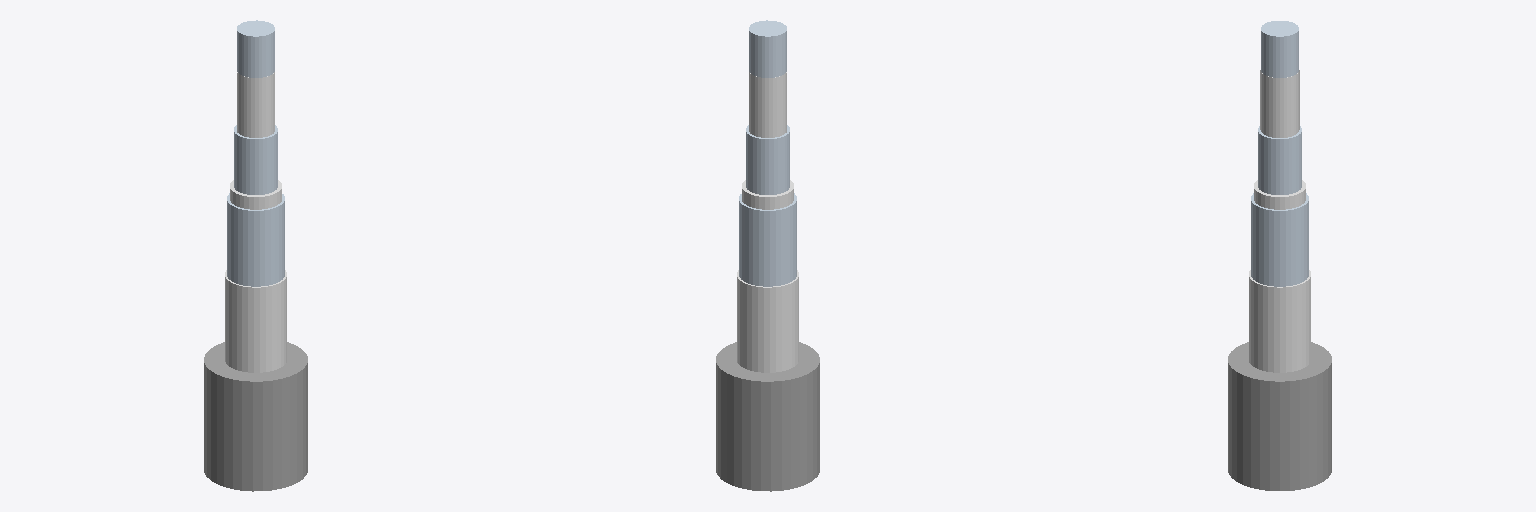
URDF robot description (mycobot_320_pi):
<?xml version="1.0"?>
<robot name="mycobot_320_pi">
  
  <!-- 
    myCobot 320 Pi - Baby Elephant Cooperative Robotic Arm
    Frame Configuration based on "4 Joint connecting rod parameter specifications"
    
    Specifications:
    - Working Radius: 350mm
    - Payload: 1kg
    - Positioning Precision: ±0.5mm
    - Weight: 3.3kg
    - DOF: 6
    
    DH Parameters from diagram:
    - d1 = 173.9mm (F0 to F1 along z0)
    - a2 = 135mm (F1 to F2 along x2)
    - a3 = 120mm (F2 to F3 along x3)
    - d4 = 88.78mm (F3 to F4 along z4)
    - d5 = 95mm (F4 to F5 along z5)
    - d6 = 65.50mm (F5 to F6 along z6)
    
    Frame Convention:
    - F0: Base frame (x0, y0, z0)
    - F1: After J1 rotation (z-axis)
    - F2: After J2 rotation (y-axis)
    - F3: After J3 rotation (y-axis)
    - F4: After J4 rotation (z-axis)
    - F5: After J5 rotation (y-axis)
    - F6: End-effector frame (z-axis)
  -->
  
  <!-- Base Link - F0 (d1 = 173.9mm height) -->
  <link name="base_link">
    <visual>
      <geometry>
        <cylinder length="0.1739" radius="0.075"/>
      </geometry>
      <origin xyz="0 0 0.08695" rpy="0 0 0"/>
      <material name="gray">
        <color rgba="0.7 0.7 0.7 1"/>
      </material>
    </visual>
    <collision>
      <geometry>
        <cylinder length="0.1739" radius="0.075"/>
      </geometry>
      <origin xyz="0 0 0.08695" rpy="0 0 0"/>
    </collision>
    <inertial>
      <mass value="1.0"/>
      <origin xyz="0 0 0.08695" rpy="0 0 0"/>
      <inertia ixx="0.012" ixy="0" ixz="0" iyy="0.012" iyz="0" izz="0.008"/>
    </inertial>
  </link>

  <!-- Link 1 - F1 (a2 = 135mm) -->
  <link name="link1">
    <visual>
      <geometry>
        <cylinder length="0.135" radius="0.045"/>
      </geometry>
      <origin xyz="0 0 0.0675" rpy="0 0 0"/>
      <material name="white">
        <color rgba="0.95 0.95 0.95 1"/>
      </material>
    </visual>
    <collision>
      <geometry>
        <cylinder length="0.135" radius="0.045"/>
      </geometry>
      <origin xyz="0 0 0.0675" rpy="0 0 0"/>
    </collision>
    <inertial>
      <mass value="0.7"/>
      <origin xyz="0 0 0.0675" rpy="0 0 0"/>
      <inertia ixx="0.009" ixy="0" ixz="0" iyy="0.009" iyz="0" izz="0.005"/>
    </inertial>
  </link>

  <!-- Joint 1: F0 to F1 (Revolute, z0-axis rotation) -->
  <joint name="joint1" type="revolute">
    <parent link="base_link"/>
    <child link="link1"/>
    <origin xyz="0 0 0.1739" rpy="0 0 0"/>
    <axis xyz="0 0 1"/>
    <limit lower="-2.879" upper="2.879" effort="100" velocity="3.14"/>
    <!-- J1: -165° to +165° = -2.879 to +2.879 radians -->
  </joint>

  <!-- Link 2 - F2 (a3 = 120mm) -->
  <link name="link2">
    <visual>
      <geometry>
        <cylinder length="0.120" radius="0.042"/>
      </geometry>
      <origin xyz="0 0 0.060" rpy="0 0 0"/>
      <material name="light_blue">
        <color rgba="0.85 0.90 0.95 1"/>
      </material>
    </visual>
    <collision>
      <geometry>
        <cylinder length="0.120" radius="0.042"/>
      </geometry>
      <origin xyz="0 0 0.060" rpy="0 0 0"/>
    </collision>
    <inertial>
      <mass value="0.6"/>
      <origin xyz="0 0 0.060" rpy="0 0 0"/>
      <inertia ixx="0.007" ixy="0" ixz="0" iyy="0.007" iyz="0" izz="0.004"/>
    </inertial>
  </link>

  <!-- Joint 2: F1 to F2 (Revolute, y1-axis rotation) -->
  <joint name="joint2" type="revolute">
    <parent link="link1"/>
    <child link="link2"/>
    <origin xyz="0 0 0.135" rpy="0 0 0"/>
    <axis xyz="0 1 0"/>
    <limit lower="-2.879" upper="2.879" effort="100" velocity="3.14"/>
    <!-- J2: -165° to +165° = -2.879 to +2.879 radians -->
  </joint>

  <!-- Link 3 - F3 (connects to F4 via d4) -->
  <link name="link3">
    <visual>
      <geometry>
        <cylinder length="0.020" radius="0.038"/>
      </geometry>
      <origin xyz="0 0 0.010" rpy="0 0 0"/>
      <material name="white">
        <color rgba="0.95 0.95 0.95 1"/>
      </material>
    </visual>
    <collision>
      <geometry>
        <cylinder length="0.020" radius="0.038"/>
      </geometry>
      <origin xyz="0 0 0.010" rpy="0 0 0"/>
    </collision>
    <inertial>
      <mass value="0.5"/>
      <origin xyz="0 0 0.010" rpy="0 0 0"/>
      <inertia ixx="0.006" ixy="0" ixz="0" iyy="0.006" iyz="0" izz="0.003"/>
    </inertial>
  </link>

  <!-- Joint 3: F2 to F3 (Revolute, y2-axis rotation) -->
  <joint name="joint3" type="revolute">
    <parent link="link2"/>
    <child link="link3"/>
    <origin xyz="0 0 0.120" rpy="0 0 0"/>
    <axis xyz="0 1 0"/>
    <limit lower="-2.879" upper="2.879" effort="100" velocity="3.14"/>
    <!-- J3: -165° to +165° = -2.879 to +2.879 radians -->
  </joint>

  <!-- Link 4 - F4 (d4 = 88.78mm) -->
  <link name="link4">
    <visual>
      <geometry>
        <cylinder length="0.08878" radius="0.032"/>
      </geometry>
      <origin xyz="0 0 0.04439" rpy="0 0 0"/>
      <material name="light_blue">
        <color rgba="0.85 0.90 0.95 1"/>
      </material>
    </visual>
    <collision>
      <geometry>
        <cylinder length="0.08878" radius="0.032"/>
      </geometry>
      <origin xyz="0 0 0.04439" rpy="0 0 0"/>
    </collision>
    <inertial>
      <mass value="0.3"/>
      <origin xyz="0 0 0.04439" rpy="0 0 0"/>
      <inertia ixx="0.003" ixy="0" ixz="0" iyy="0.003" iyz="0" izz="0.002"/>
    </inertial>
  </link>

  <!-- Joint 4: F3 to F4 (Revolute, z3-axis rotation) -->
  <joint name="joint4" type="revolute">
    <parent link="link3"/>
    <child link="link4"/>
    <origin xyz="0 0 0.020" rpy="0 0 0"/>
    <axis xyz="0 0 1"/>
    <limit lower="-2.879" upper="2.879" effort="50" velocity="3.14"/>
    <!-- J4: -165° to +165° = -2.879 to +2.879 radians -->
  </joint>

  <!-- Link 5 - F5 (d5 = 95mm) -->
  <link name="link5">
    <visual>
      <geometry>
        <cylinder length="0.095" radius="0.028"/>
      </geometry>
      <origin xyz="0 0 0.0475" rpy="0 0 0"/>
      <material name="white">
        <color rgba="0.95 0.95 0.95 1"/>
      </material>
    </visual>
    <collision>
      <geometry>
        <cylinder length="0.095" radius="0.028"/>
      </geometry>
      <origin xyz="0 0 0.0475" rpy="0 0 0"/>
    </collision>
    <inertial>
      <mass value="0.2"/>
      <origin xyz="0 0 0.0475" rpy="0 0 0"/>
      <inertia ixx="0.002" ixy="0" ixz="0" iyy="0.002" iyz="0" izz="0.001"/>
    </inertial>
  </link>

  <!-- Joint 5: F4 to F5 (Revolute, y4-axis rotation) -->
  <joint name="joint5" type="revolute">
    <parent link="link4"/>
    <child link="link5"/>
    <origin xyz="0 0 0.08878" rpy="0 0 0"/>
    <axis xyz="0 1 0"/>
    <limit lower="-2.879" upper="2.879" effort="50" velocity="3.14"/>
    <!-- J5: -165° to +165° = -2.879 to +2.879 radians -->
  </joint>

  <!-- Link 6 - F6 End Effector (d6 = 65.50mm) -->
  <link name="link6">
    <visual>
      <geometry>
        <cylinder length="0.0655" radius="0.0275"/>
      </geometry>
      <origin xyz="0 0 0.03275" rpy="0 0 0"/>
      <material name="light_blue">
        <color rgba="0.85 0.90 0.95 1"/>
      </material>
    </visual>
    <collision>
      <geometry>
        <cylinder length="0.0655" radius="0.0275"/>
      </geometry>
      <origin xyz="0 0 0.03275" rpy="0 0 0"/>
    </collision>
    <inertial>
      <mass value="0.15"/>
      <origin xyz="0 0 0.03275" rpy="0 0 0"/>
      <inertia ixx="0.001" ixy="0" ixz="0" iyy="0.001" iyz="0" izz="0.0008"/>
    </inertial>
  </link>

  <!-- Joint 6: F5 to F6 (Revolute, z5-axis rotation) -->
  <joint name="joint6" type="revolute">
    <parent link="link5"/>
    <child link="link6"/>
    <origin xyz="0 0 0.095" rpy="0 0 0"/>
    <axis xyz="0 0 1"/>
    <limit lower="-3.054" upper="3.054" effort="25" velocity="3.14"/>
    <!-- J6: -175° to +175° = -3.054 to +3.054 radians -->
  </joint>

</robot>

--- What the picture shows (computed from the rendered views, not written in the file) ---
Views: 3 orthographic renders of the robot side by side, from view 1: azimuth 30°, elevation 25°; view 2: azimuth 150°, elevation 25°; view 3: azimuth 270°, elevation 25°.
Model mycobot_320_pi with 7 links and 6 joints (6 revolute), rooted at base_link, posed all joints at 0.
Links seen in each view (by area): view 1: base_link, link1, link2, link4, link5, link6, link3; view 2: base_link, link1, link2, link4, link5, link6, link3; view 3: base_link, link1, link2, link4, link5, link6, link3.
Boxes of the visible links, x1=… form: base_link: x1=204, y1=342, x2=307, y2=491; link1: x1=225, y1=270, x2=286, y2=372; link2: x1=227, y1=193, x2=284, y2=286; link4: x1=234, y1=125, x2=277, y2=194; link5: x1=237, y1=72, x2=274, y2=137; link6: x1=237, y1=20, x2=274, y2=77; link3: x1=230, y1=180, x2=281, y2=209; base_link: x1=716, y1=342, x2=819, y2=491; link1: x1=737, y1=270, x2=798, y2=372; link2: x1=739, y1=193, x2=796, y2=286; link4: x1=746, y1=125, x2=789, y2=194; link5: x1=749, y1=72, x2=786, y2=137; link6: x1=749, y1=20, x2=786, y2=77; link3: x1=742, y1=180, x2=793, y2=209; base_link: x1=1228, y1=342, x2=1331, y2=490; link1: x1=1249, y1=270, x2=1310, y2=372; link2: x1=1251, y1=193, x2=1308, y2=286; link4: x1=1258, y1=126, x2=1301, y2=194; link5: x1=1260, y1=70, x2=1299, y2=137; link6: x1=1261, y1=21, x2=1298, y2=77; link3: x1=1254, y1=180, x2=1305, y2=209.
Size in the robot's own frame: 0.15 by 0.15 by 0.6982 metres.
Geometry: primitives only (box / cylinder / sphere), no mesh files.